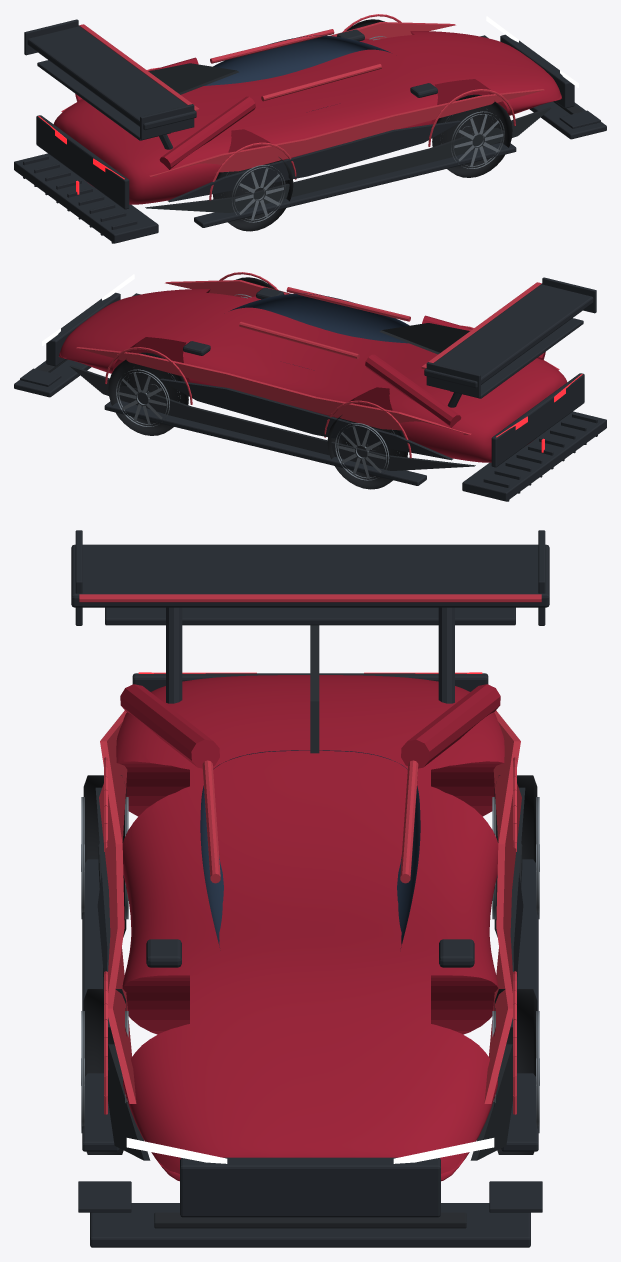
File: aegis-original.glb
3 views of the same model, one above another, from view 1: azimuth 30°, elevation 25°; view 2: azimuth 150°, elevation 25°; view 3: azimuth 270°, elevation 25° (orthographic). The views are drawn at different scales.
Visible parts, largest first — view 1: Body, WheelFrontRight, WheelRearRight; view 2: Body, WheelFrontLeft, WheelRearLeft; view 3: Body, WheelFrontLeft, WheelFrontRight, WheelRearLeft, WheelRearRight.
Boxes of the visible parts, bbox=[...] form: Body: bbox=[14, 14, 606, 243]; WheelFrontRight: bbox=[432, 94, 512, 177]; WheelRearRight: bbox=[213, 157, 293, 231]; Body: bbox=[14, 272, 606, 501]; WheelFrontLeft: bbox=[108, 352, 188, 435]; WheelRearLeft: bbox=[327, 415, 407, 489]; Body: bbox=[71, 530, 549, 1247]; WheelFrontLeft: bbox=[492, 989, 539, 1154]; WheelFrontRight: bbox=[81, 989, 128, 1154]; WheelRearLeft: bbox=[492, 775, 539, 936]; WheelRearRight: bbox=[81, 775, 128, 936].
Size of the model in its own units: 5.7 by 1.6 by 2.42.
